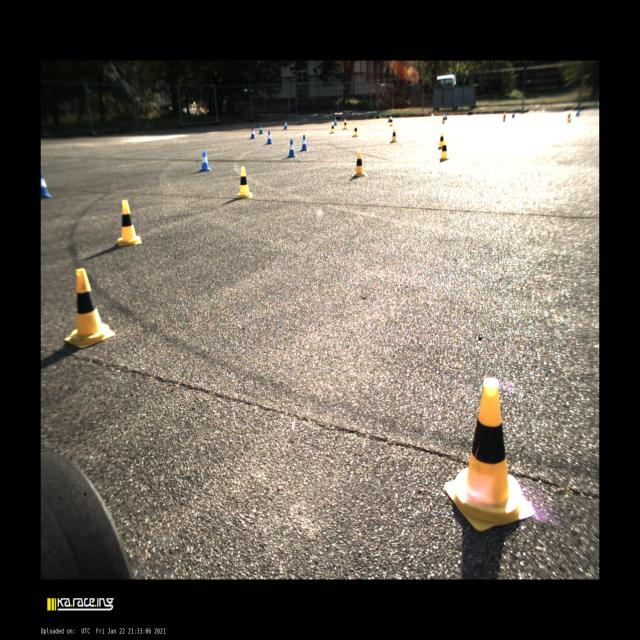blue_cone: (41, 168, 52, 199), (199, 151, 211, 172), (288, 140, 296, 158), (300, 134, 308, 152), (266, 131, 272, 144), (250, 128, 255, 138), (283, 120, 288, 130), (333, 117, 338, 126), (259, 124, 263, 134), (388, 116, 390, 122)
yellow_cone: (444, 377, 535, 532), (64, 268, 115, 348), (117, 200, 142, 247), (237, 167, 253, 199), (352, 152, 365, 176), (440, 140, 449, 160), (437, 133, 444, 149), (390, 129, 397, 142), (352, 124, 358, 138), (342, 119, 348, 130), (330, 122, 334, 134), (390, 116, 393, 126), (442, 114, 445, 124), (503, 112, 505, 122)
